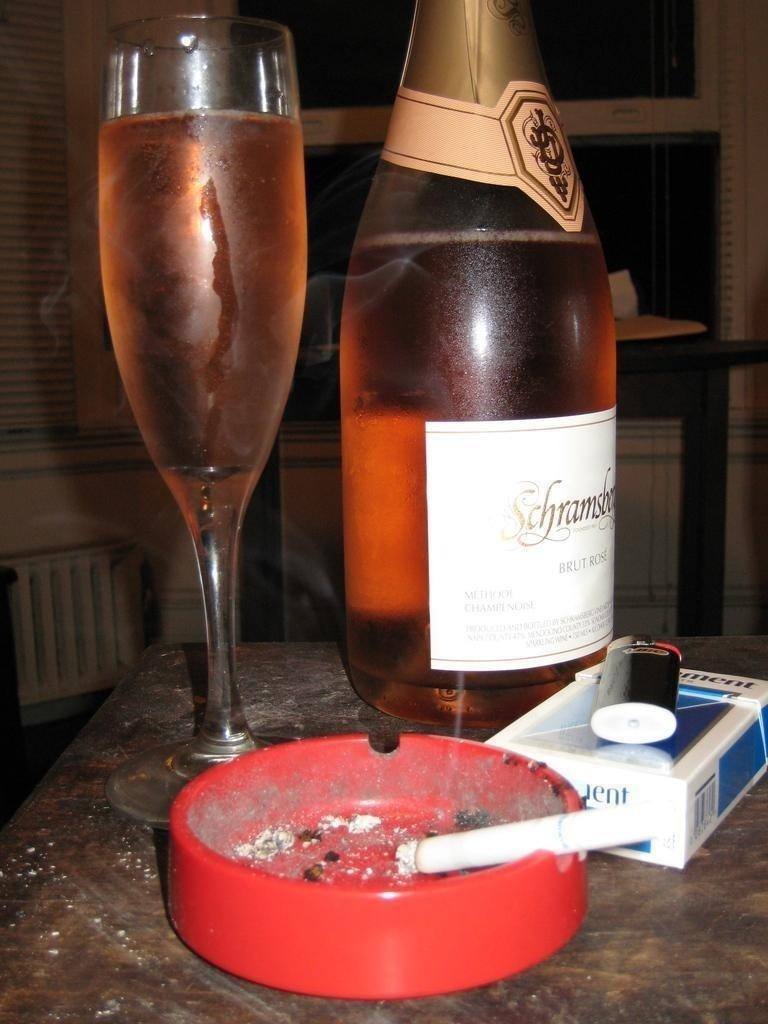bottle-glass: (321, 1, 623, 723)
glass-wine: (95, 12, 307, 820)
